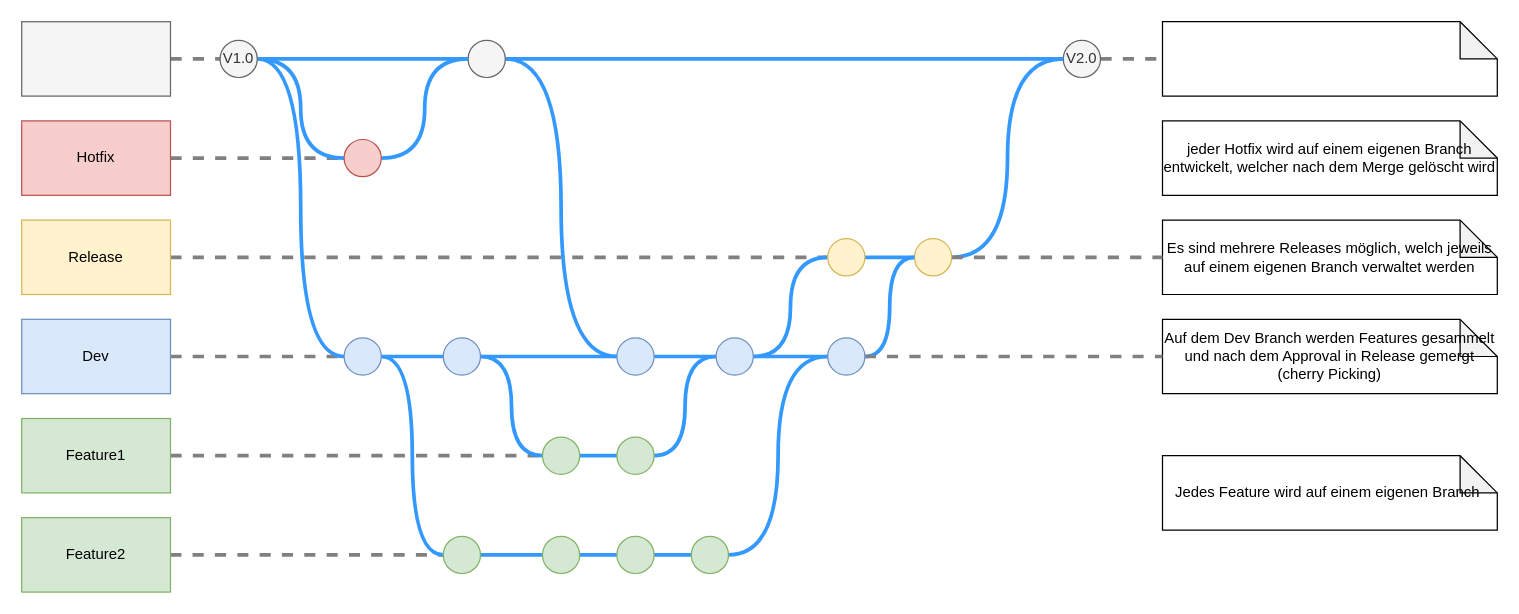
Some shapes in this 1519 by 614 pixel diagram are drawn without their labels. Each missing label, with the centre of its shape:
"Jeder Commit entspricht einem Release" goes at pixel 1329 58.
"Master" goes at pixel 95 58.
"V1.1" goes at pixel 486 58.
